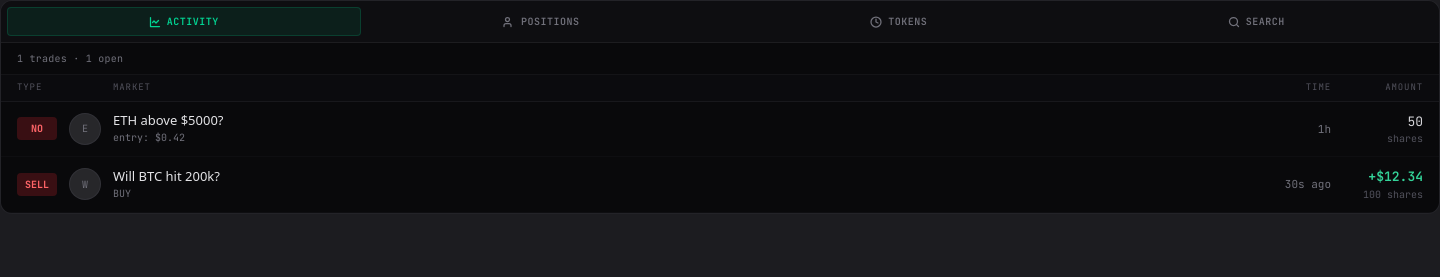
Test: TradeFeed › Search input filters trades by market name
Click the button "Search" at (1256, 22), box left=1080, top=7, right=1433, bottom=36
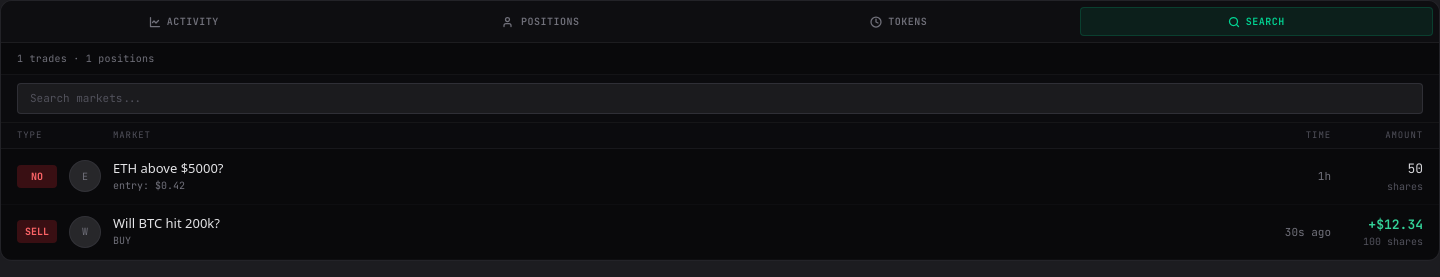
Type "BTC" into the field with placeholder "Search markets..." at (720, 98), box left=17, top=83, right=1423, bottom=114
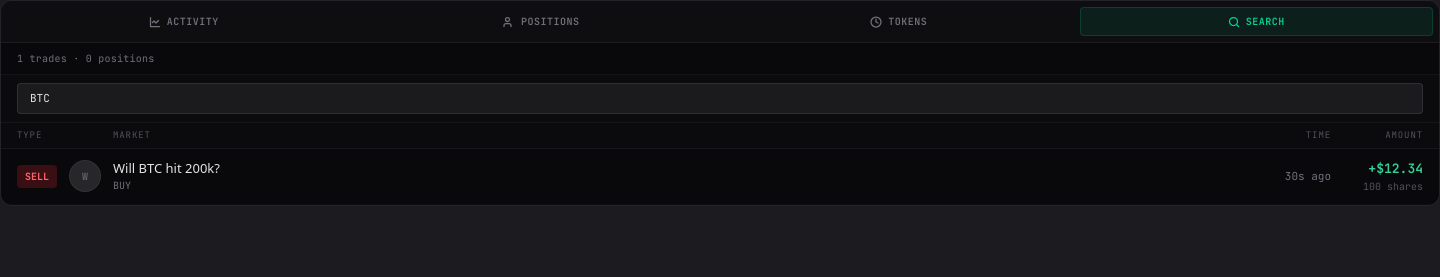
Expected: the text "Will BTC hit 200k?" is shown, left=113, top=159, right=220, bottom=177
Result: the text "ETH above $5000?" is gone
